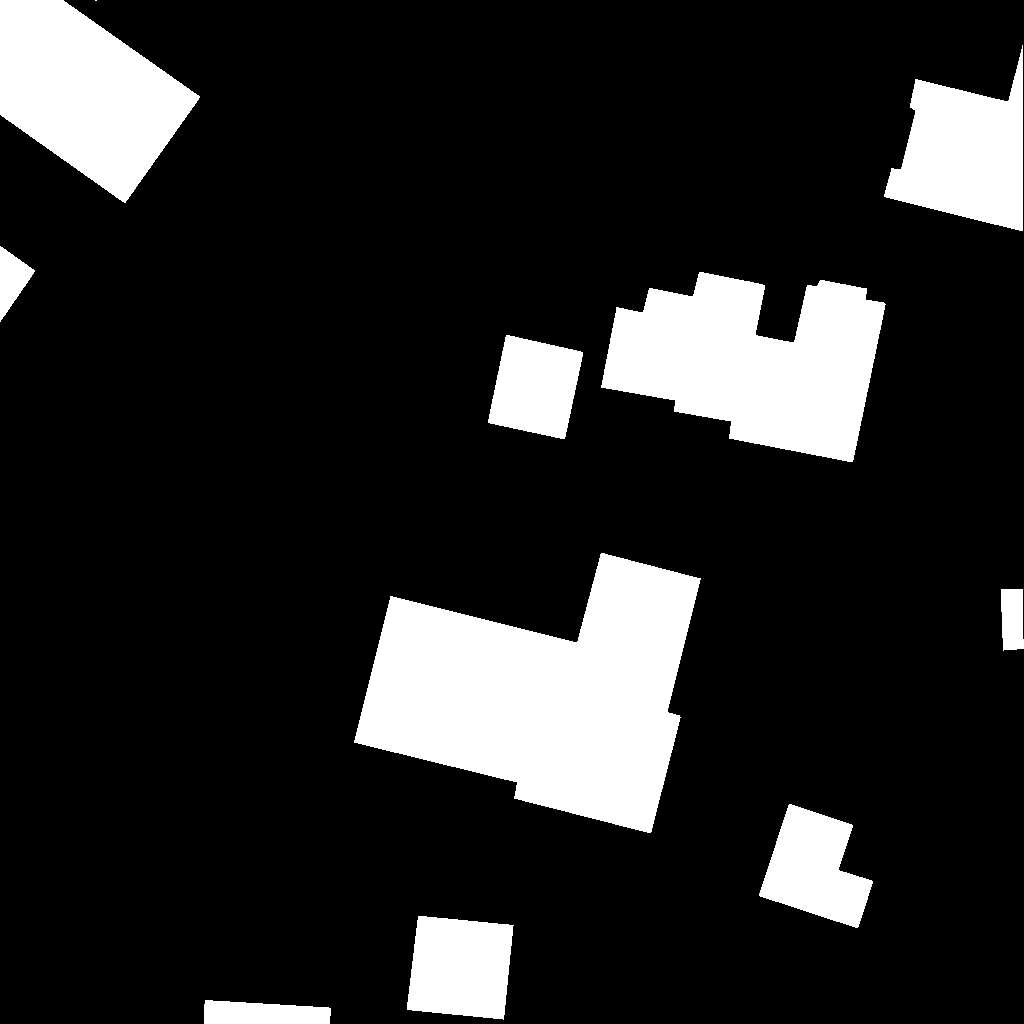building: (354, 553, 702, 834), (601, 272, 886, 463), (0, 0, 201, 204), (884, 44, 1024, 232), (759, 804, 874, 929), (407, 916, 514, 1020), (488, 335, 584, 440), (204, 1000, 332, 1024), (0, 246, 36, 323), (1001, 589, 1024, 651)
